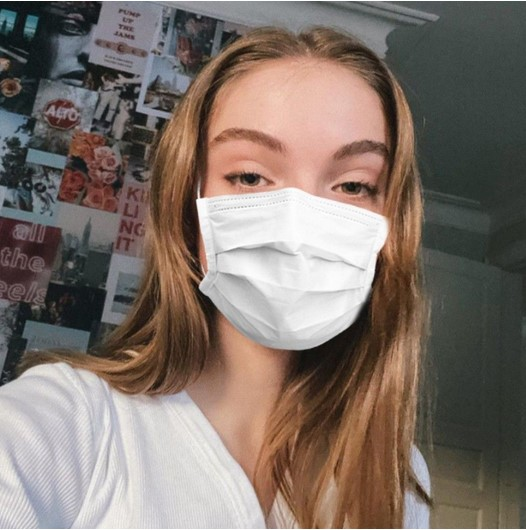face_with_mask: (163, 22, 421, 364)
